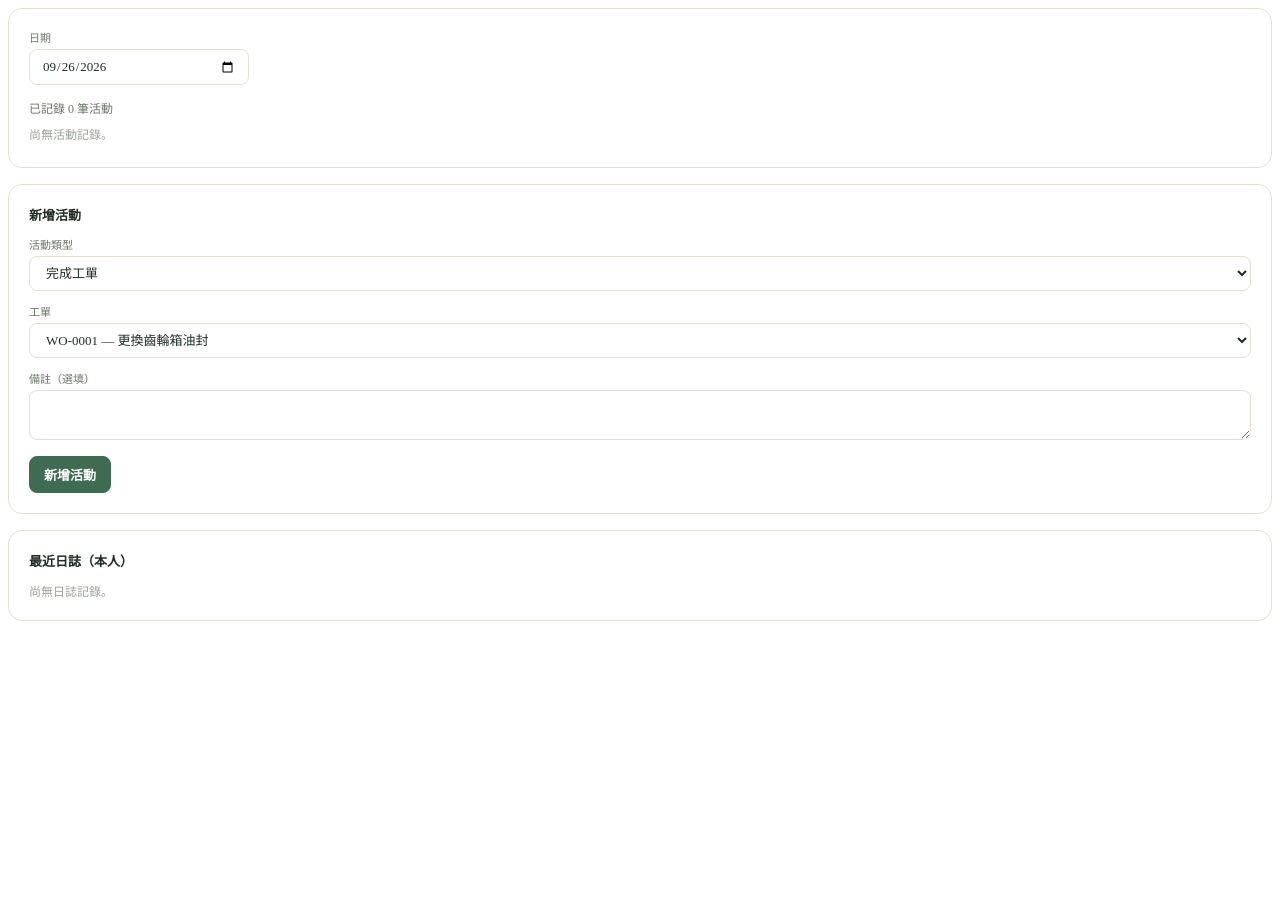
Test: DayWorkFormPanel 送出行為 › 送出失敗：顯示錯誤訊息，欄位不重置
Type "備註內容" into the text box labelled "備註" at (640, 415), box [29,390,1251,440]
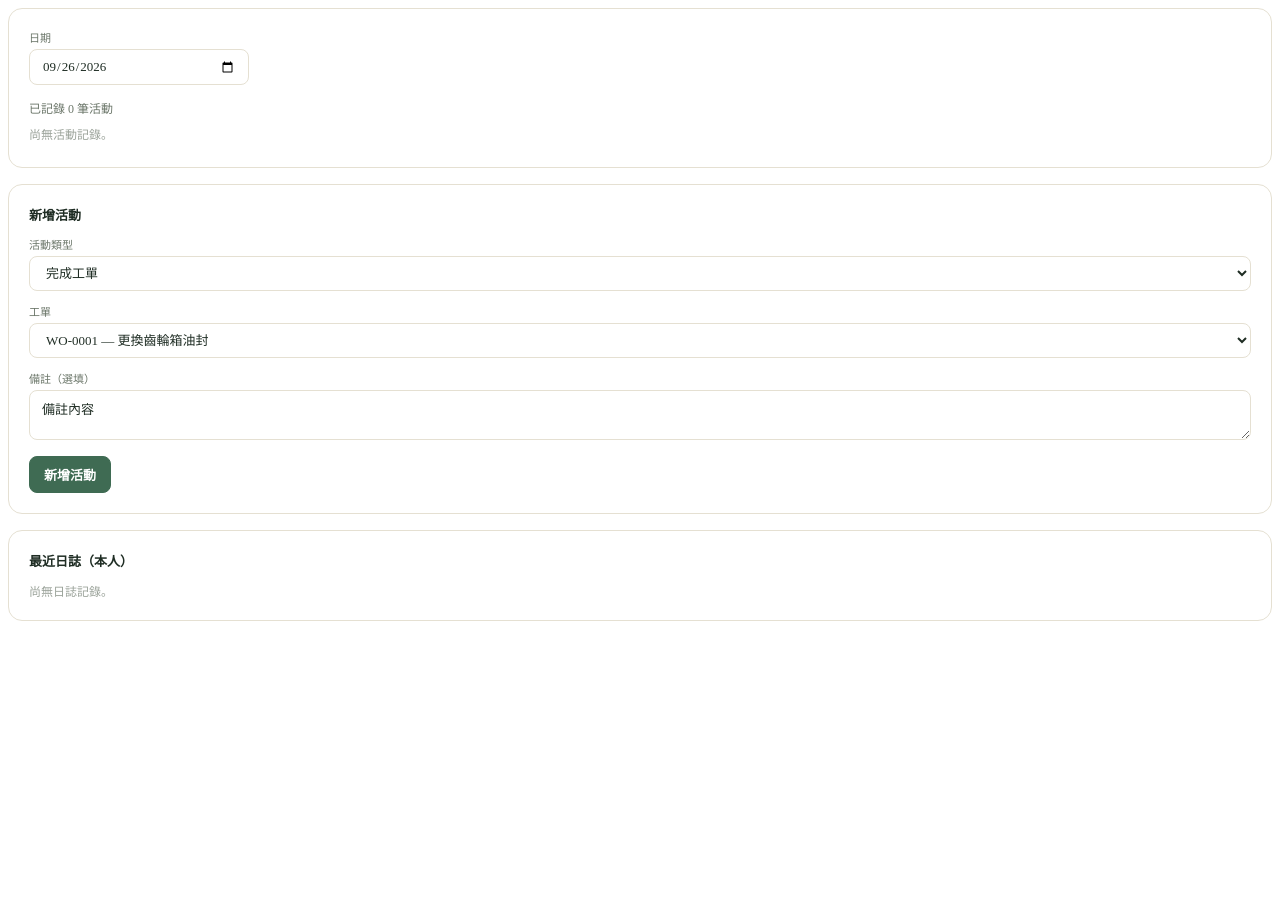
Click the button "新增活動" at (70, 474), box [29,456,111,493]
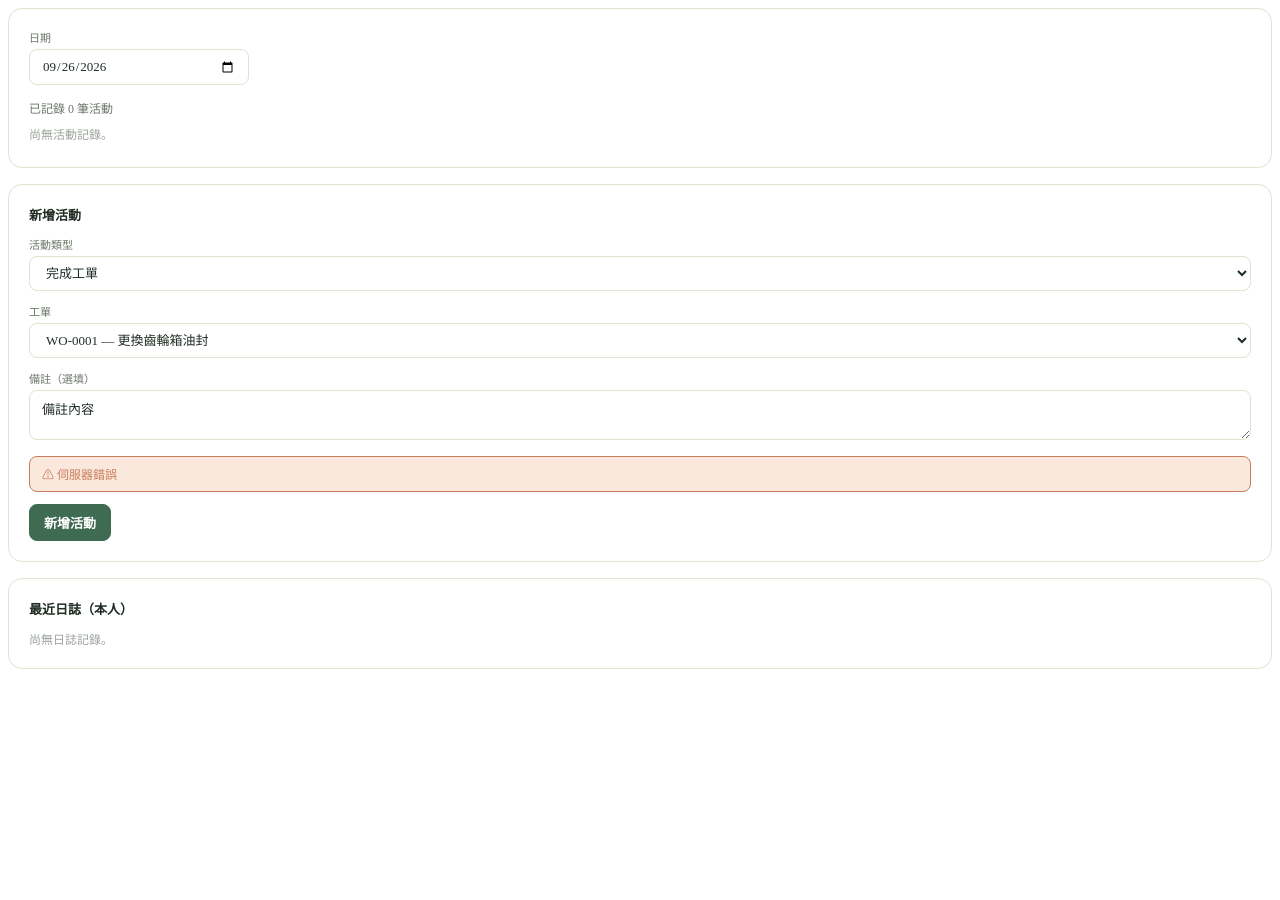
Expected: the text "⚠ 伺服器錯誤" is shown, [29,456,1251,492]
